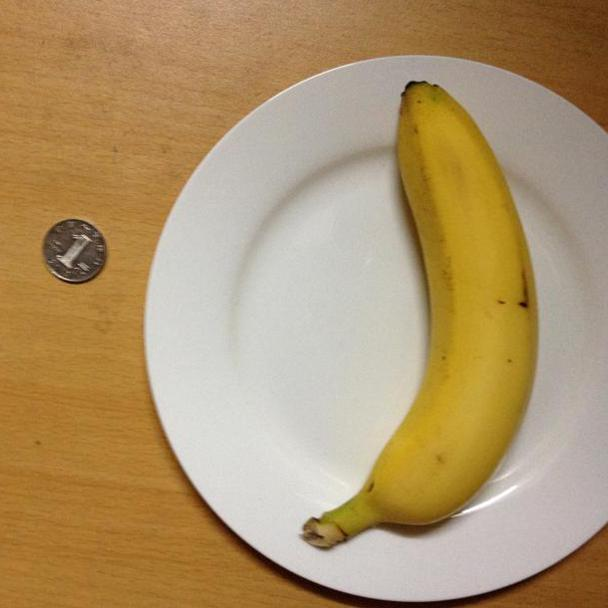banana: (340, 81, 546, 533)
